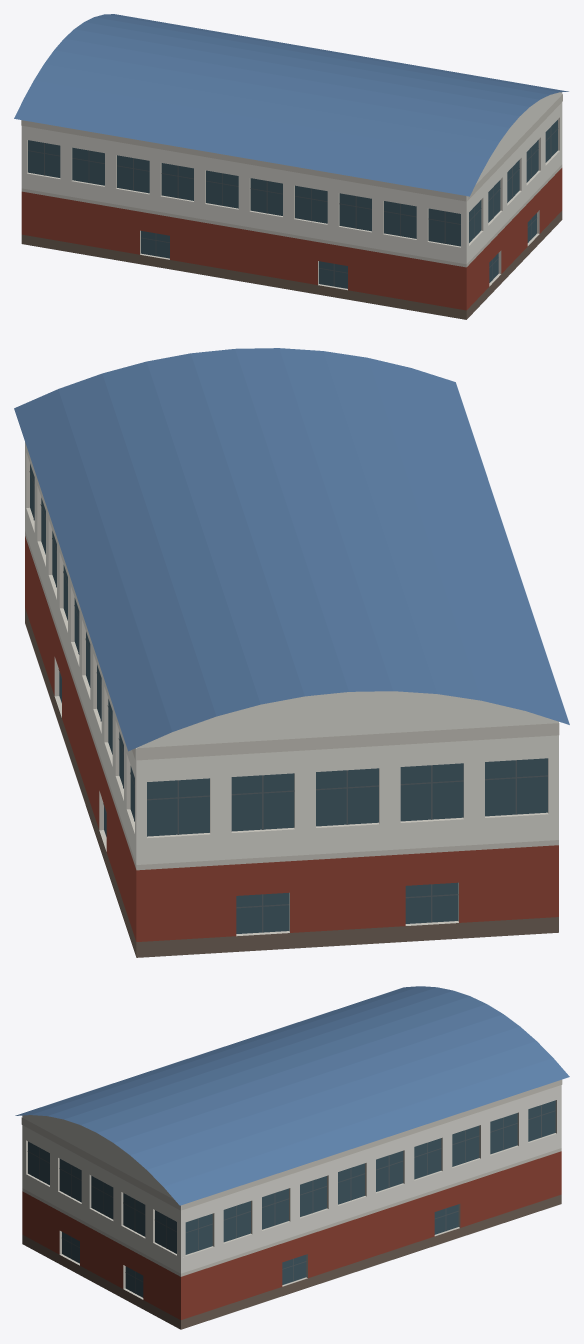
The picture shows the model from 3 angles, top to bottom: view 1: azimuth 30°, elevation 25°; view 2: azimuth 150°, elevation 25°; view 3: azimuth 270°, elevation 25°; orthographic projection. The views are drawn at different scales.
Parts seen in each view (by area): view 1: hall2__roof-metal, hall2__wall-plaster, hall2__brick, hall2__glass, hall2__trim-concrete, hall2__base-stone, hall2__frame; view 2: hall2__roof-metal, hall2__wall-plaster, hall2__brick, hall2__glass, hall2__trim-concrete, hall2__base-stone, hall2__frame; view 3: hall2__roof-metal, hall2__wall-plaster, hall2__brick, hall2__glass, hall2__trim-concrete, hall2__base-stone, hall2__frame.
Part boxes in pixels (x1,y1,x2,y2): hall2__roof-metal: (14, 14, 568, 196); hall2__wall-plaster: (21, 92, 562, 264); hall2__brick: (21, 168, 562, 310); hall2__glass: (28, 120, 557, 288); hall2__trim-concrete: (21, 94, 562, 290); hall2__base-stone: (21, 211, 562, 319); hall2__frame: (28, 127, 558, 286); hall2__roof-metal: (14, 348, 569, 751); hall2__wall-plaster: (25, 442, 558, 864); hall2__brick: (25, 536, 558, 941); hall2__glass: (30, 464, 547, 933); hall2__trim-concrete: (25, 453, 559, 936); hall2__base-stone: (25, 608, 558, 957); hall2__frame: (29, 471, 547, 932); hall2__roof-metal: (15, 986, 569, 1205); hall2__wall-plaster: (22, 1085, 561, 1273); hall2__brick: (22, 1151, 561, 1319); hall2__glass: (28, 1100, 555, 1297); hall2__trim-concrete: (21, 1079, 562, 1299); hall2__base-stone: (22, 1194, 561, 1329); hall2__frame: (27, 1105, 555, 1293).
Size of the model in its own units: 44.31 by 14.7 by 47.64.
